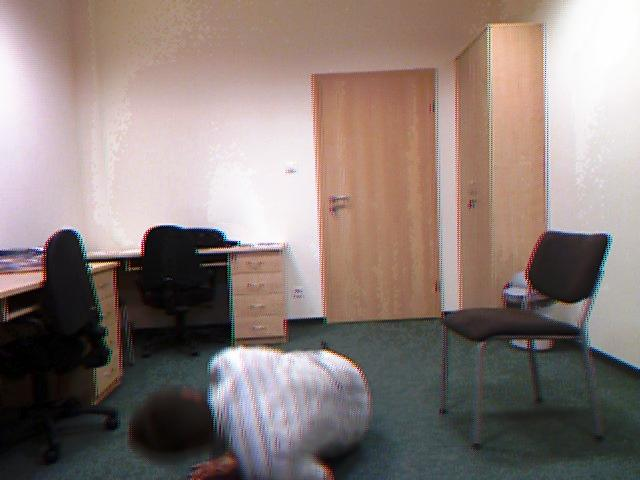fall: (131, 344, 402, 480)
